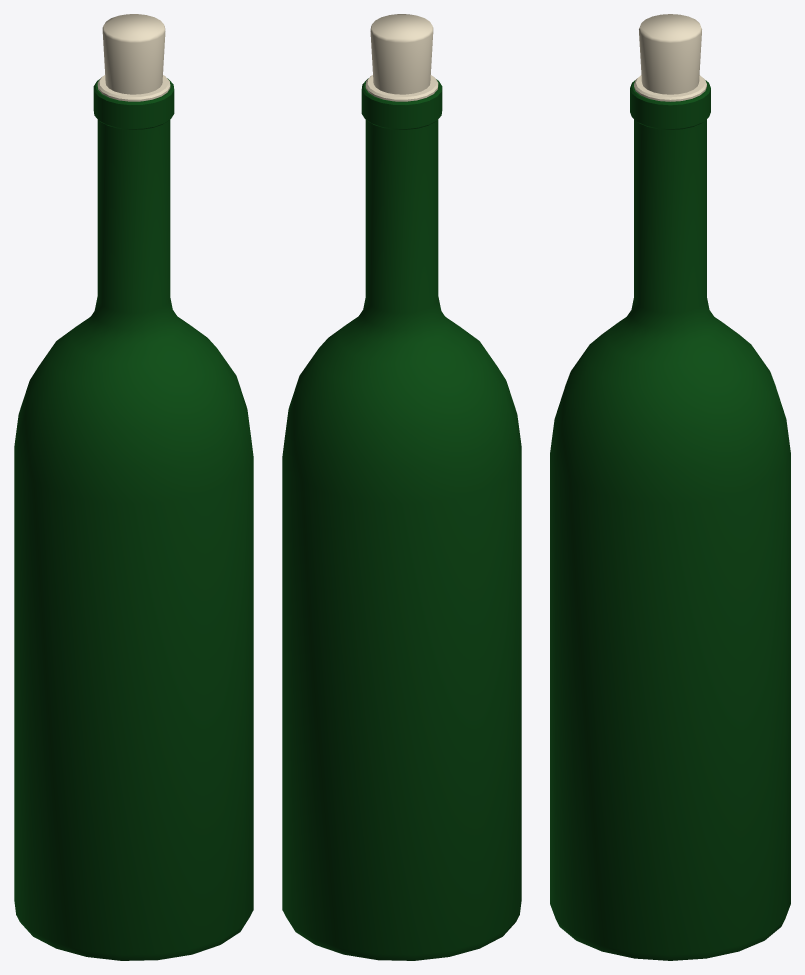
File: WineBottle.fbx
The picture shows the model from 3 angles, left to right: view 1: azimuth 30°, elevation 25°; view 2: azimuth 150°, elevation 25°; view 3: azimuth 270°, elevation 25°; orthographic projection.
Visible parts, largest first — view 1: WineBottleUVd:pCylinder12; view 2: WineBottleUVd:pCylinder12; view 3: WineBottleUVd:pCylinder12.
Boxes of the visible parts, x1=… form: WineBottleUVd:pCylinder12: x1=14, y1=14, x2=253, y2=960; WineBottleUVd:pCylinder12: x1=282, y1=14, x2=521, y2=960; WineBottleUVd:pCylinder12: x1=550, y1=14, x2=790, y2=960.
Bounding box in the file's own units: 2.55 × 10.32 × 2.55.
